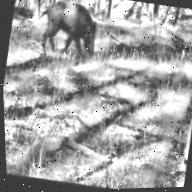boar: (40, 0, 106, 67)
